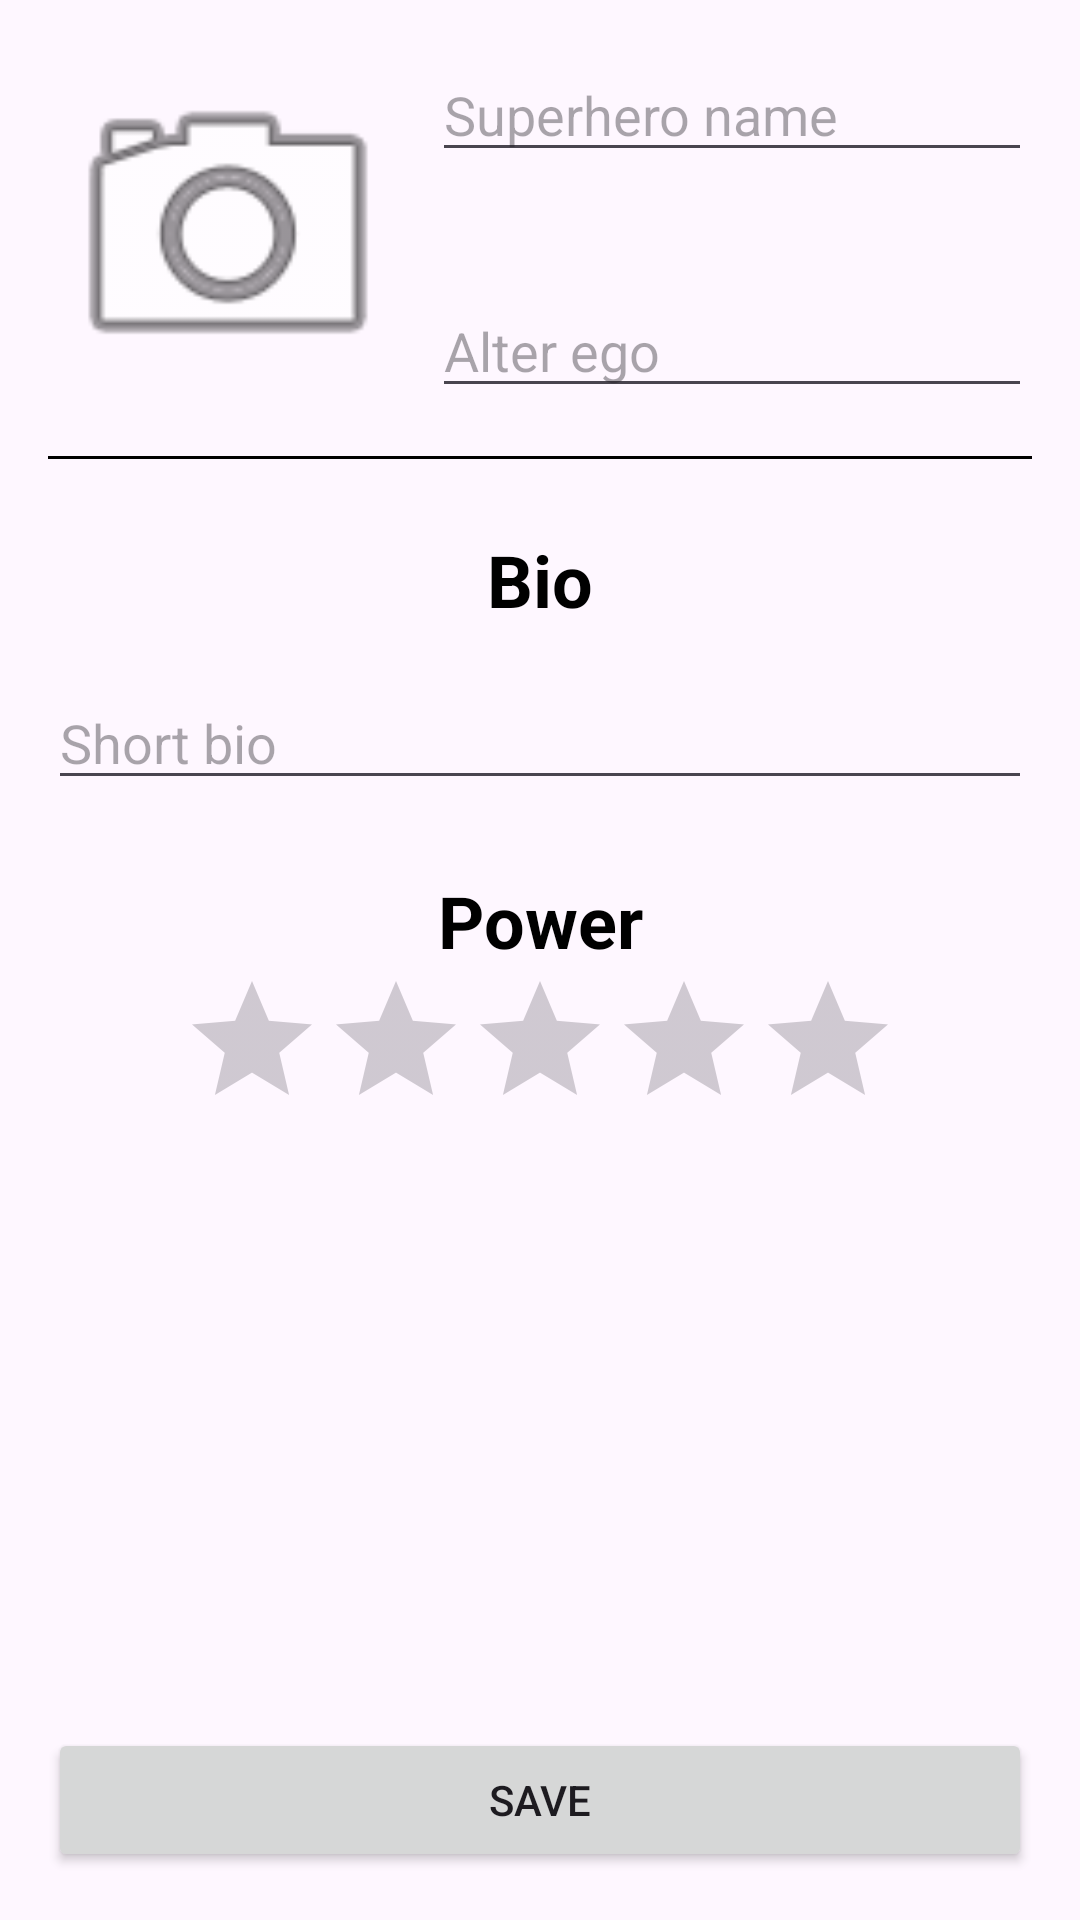

Named icons in this screenshot (1080×1920) and their centers, [x,y]:
camera: [228,222]
